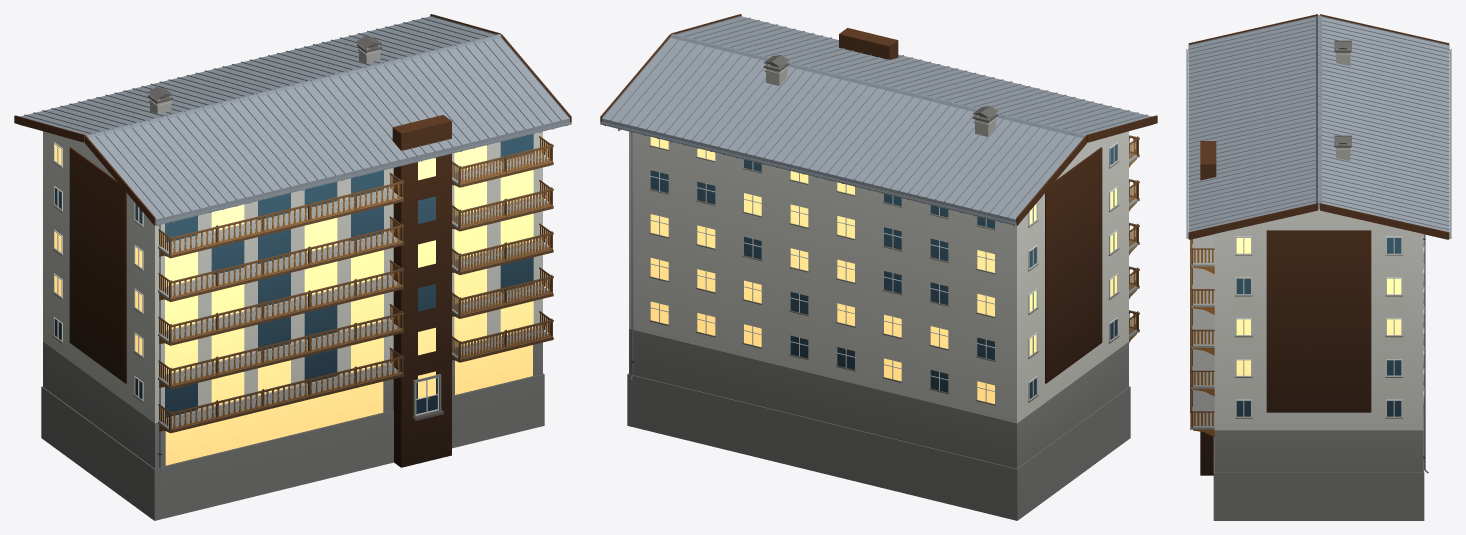
File: Apartment_Ski.fbx
The picture shows the model from 3 angles, left to right: view 1: azimuth 30°, elevation 25°; view 2: azimuth 150°, elevation 25°; view 3: azimuth 270°, elevation 25°; orthographic projection. The views are drawn at different scales.
Parts seen in each view (by area): view 1: Apartment_Ski_LOD0; view 2: Apartment_Ski_LOD0; view 3: Apartment_Ski_LOD0.
Boxes of the visible parts, x1,y1,x2,y2 form: Apartment_Ski_LOD0: (14,14,571,520); Apartment_Ski_LOD0: (600,14,1157,520); Apartment_Ski_LOD0: (1186,14,1451,520).
Size of what is drawn, in the model's own units: 27.94 by 23.12 by 16.52.
Materials: 1 (1 with a texture image).
